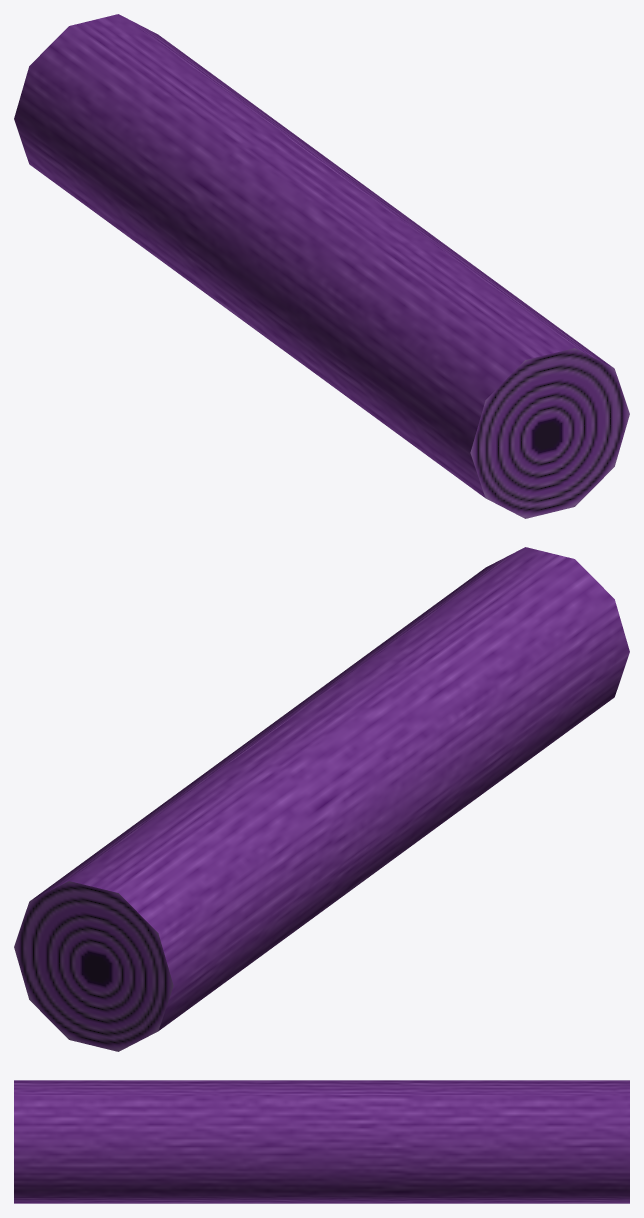
The model's file is Yoga_Mat_Roll_C.FBX.
3 views of the same model, one above another, from view 1: azimuth 30°, elevation 25°; view 2: azimuth 150°, elevation 25°; view 3: azimuth 270°, elevation 25° (orthographic). The views are drawn at different scales.
Visible parts, largest first — view 1: Yogamat_Roll; view 2: Yogamat_Roll; view 3: Yogamat_Roll.
Boxes of the visible parts, left/top/right/bottom form: Yogamat_Roll: left=14, top=14, right=629, bottom=518; Yogamat_Roll: left=14, top=547, right=629, bottom=1051; Yogamat_Roll: left=14, top=1080, right=629, bottom=1203.
Bounding box in the file's own units: 29.29 × 27.86 × 145.
